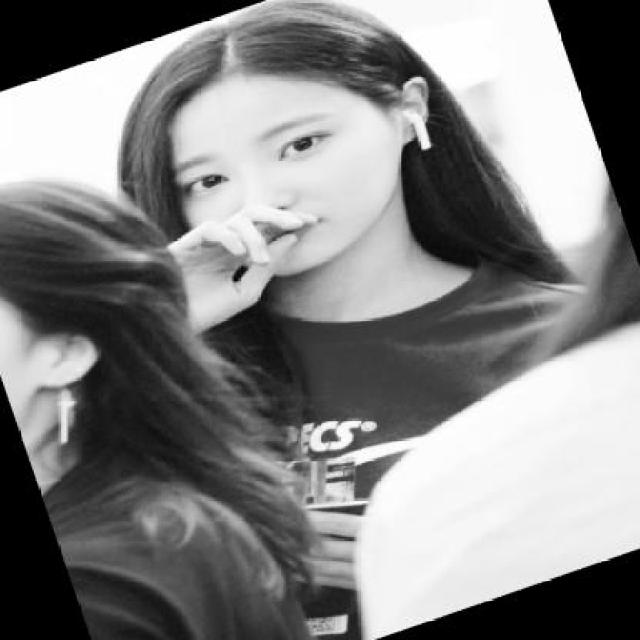earphone: (396, 84, 448, 161)
